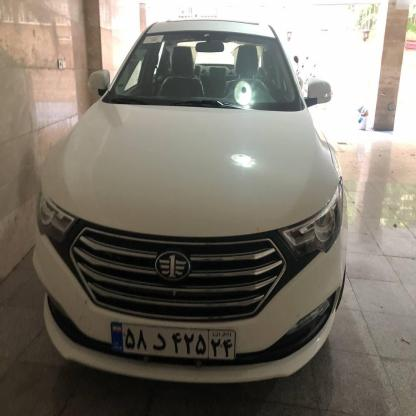Car: (33, 20, 347, 396)
